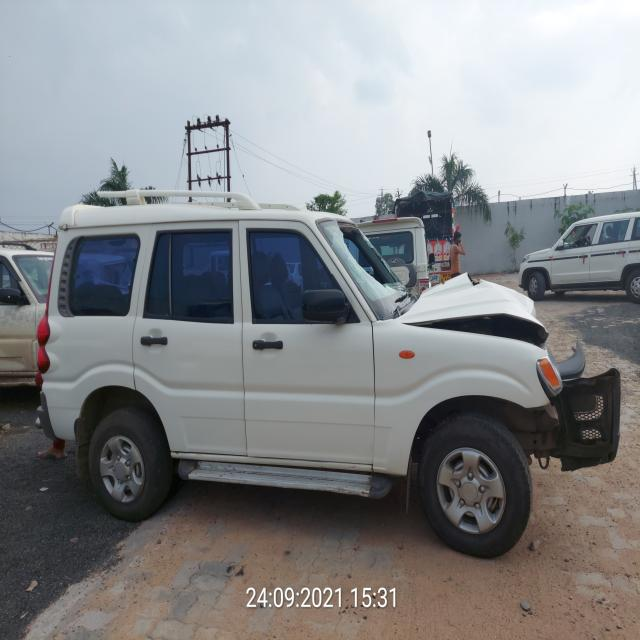damage: (326, 220, 400, 321), (420, 276, 538, 337), (554, 363, 612, 467), (550, 336, 585, 385)
